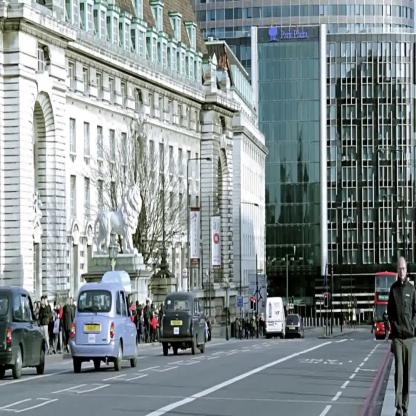bus: (375, 272, 398, 340)
car: (70, 284, 138, 369), (1, 287, 45, 379), (160, 292, 206, 356), (285, 314, 305, 340)
truck: (264, 297, 284, 338)
